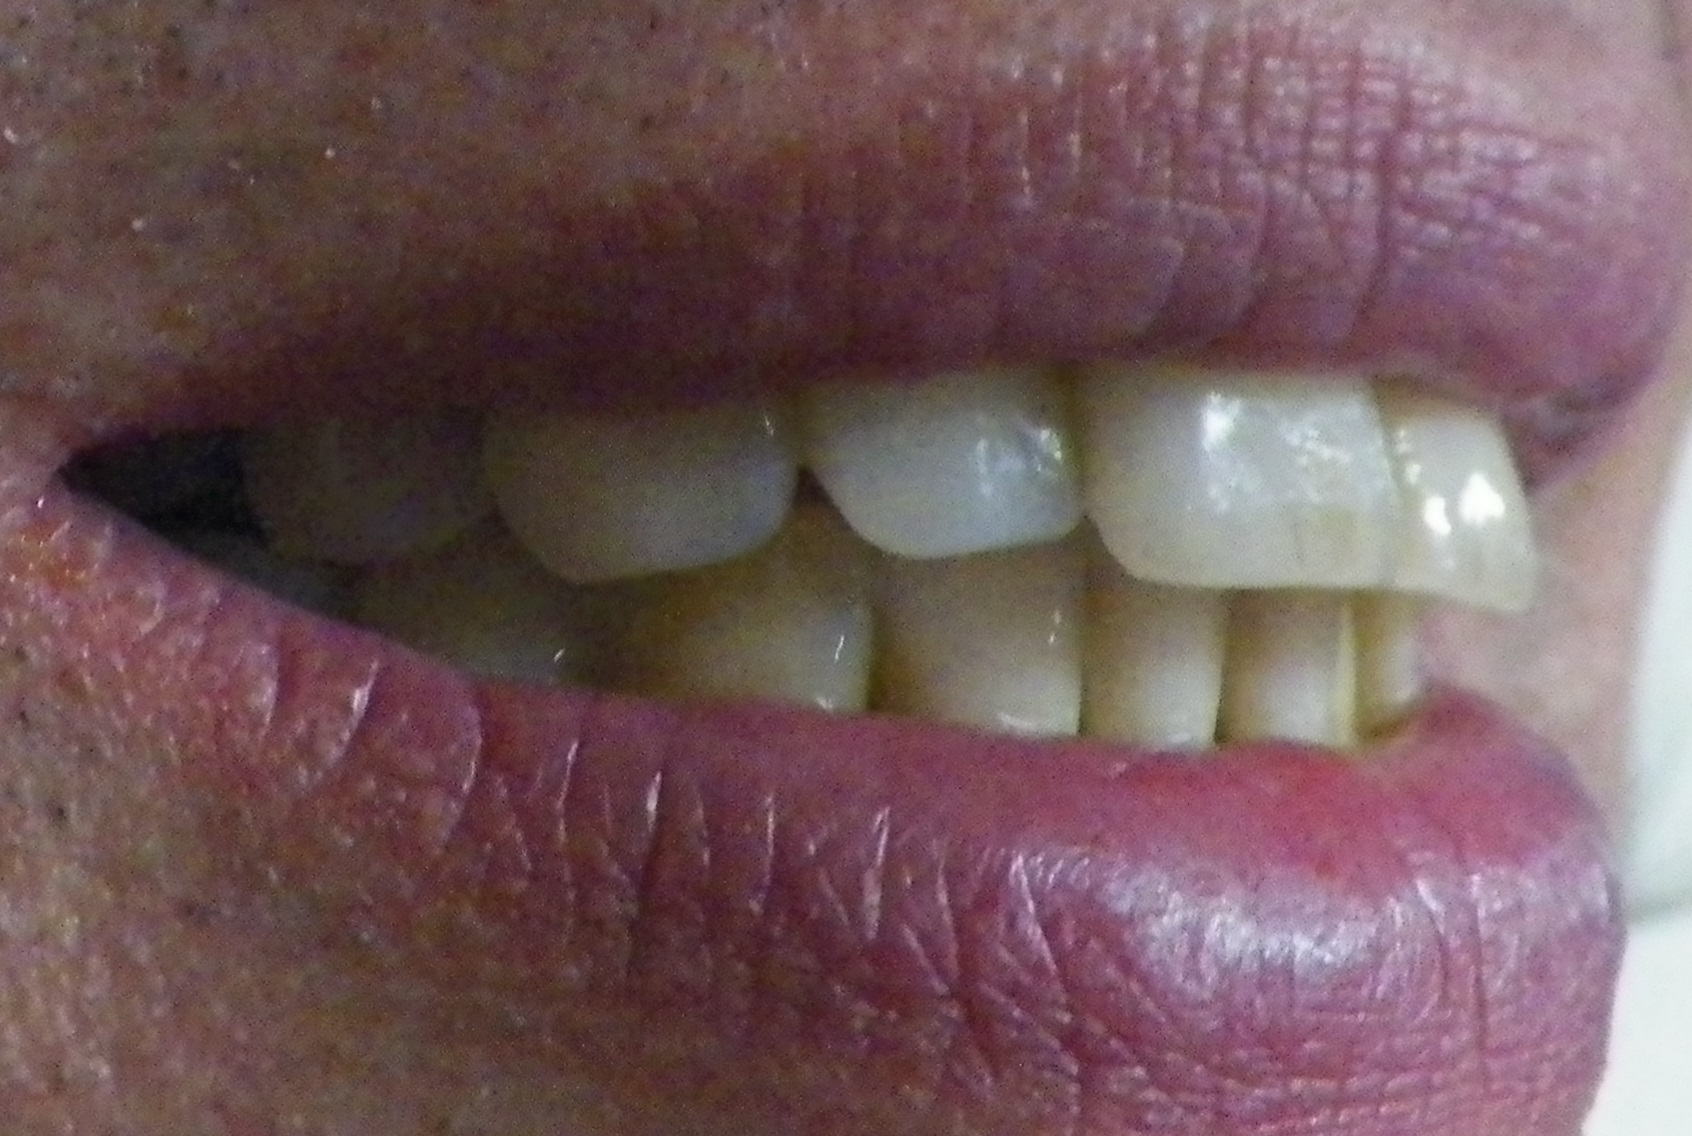boca: (170, 382, 1522, 759)
